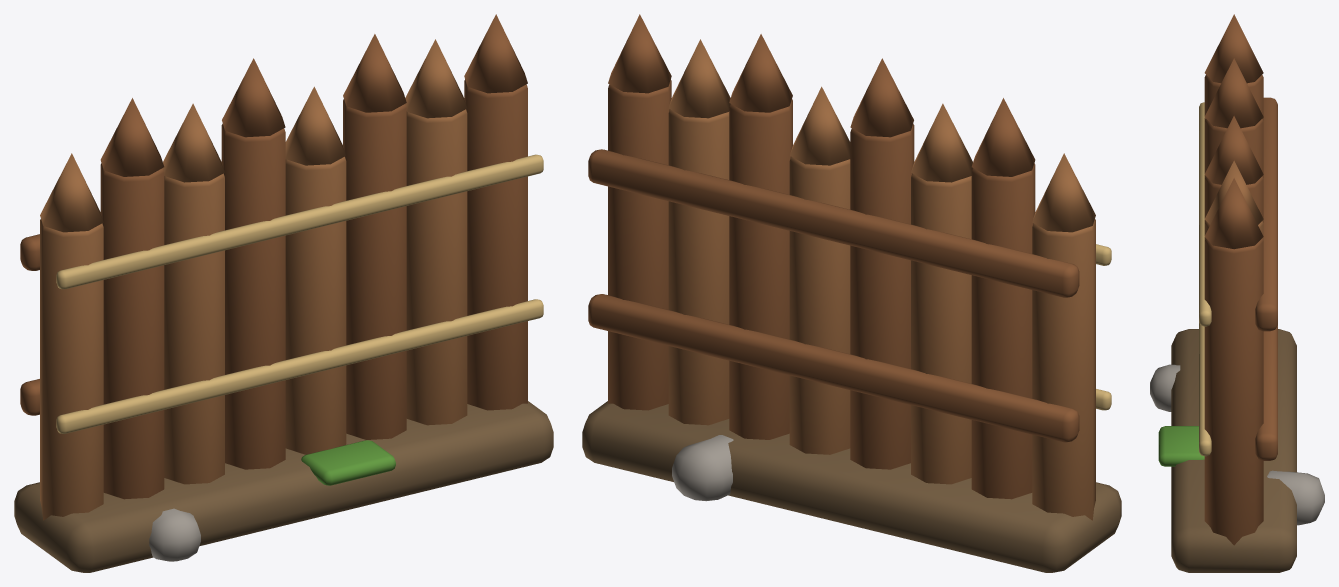
File: WallSegment.glb
The picture shows the model from 3 angles, left to right: view 1: azimuth 30°, elevation 25°; view 2: azimuth 150°, elevation 25°; view 3: azimuth 270°, elevation 25°; orthographic projection. The views are drawn at different scales.
Parts seen in each view (by area): view 1: WallSegment; view 2: WallSegment; view 3: WallSegment.
Boxes of the visible parts, x1,y1,x2,y2 form: WallSegment: [14, 14, 553, 572]; WallSegment: [582, 14, 1121, 572]; WallSegment: [1150, 14, 1324, 572].
Size of the model in its own units: 2 by 1.77 by 0.6972.
